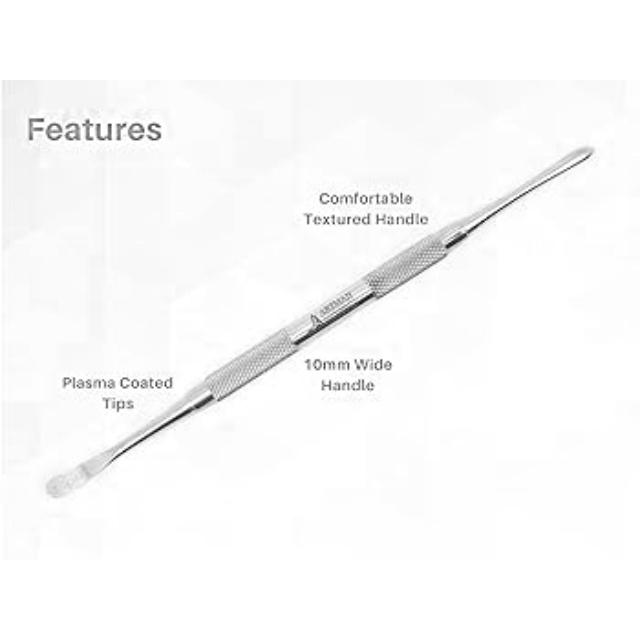elevador: (46, 147, 595, 501)
